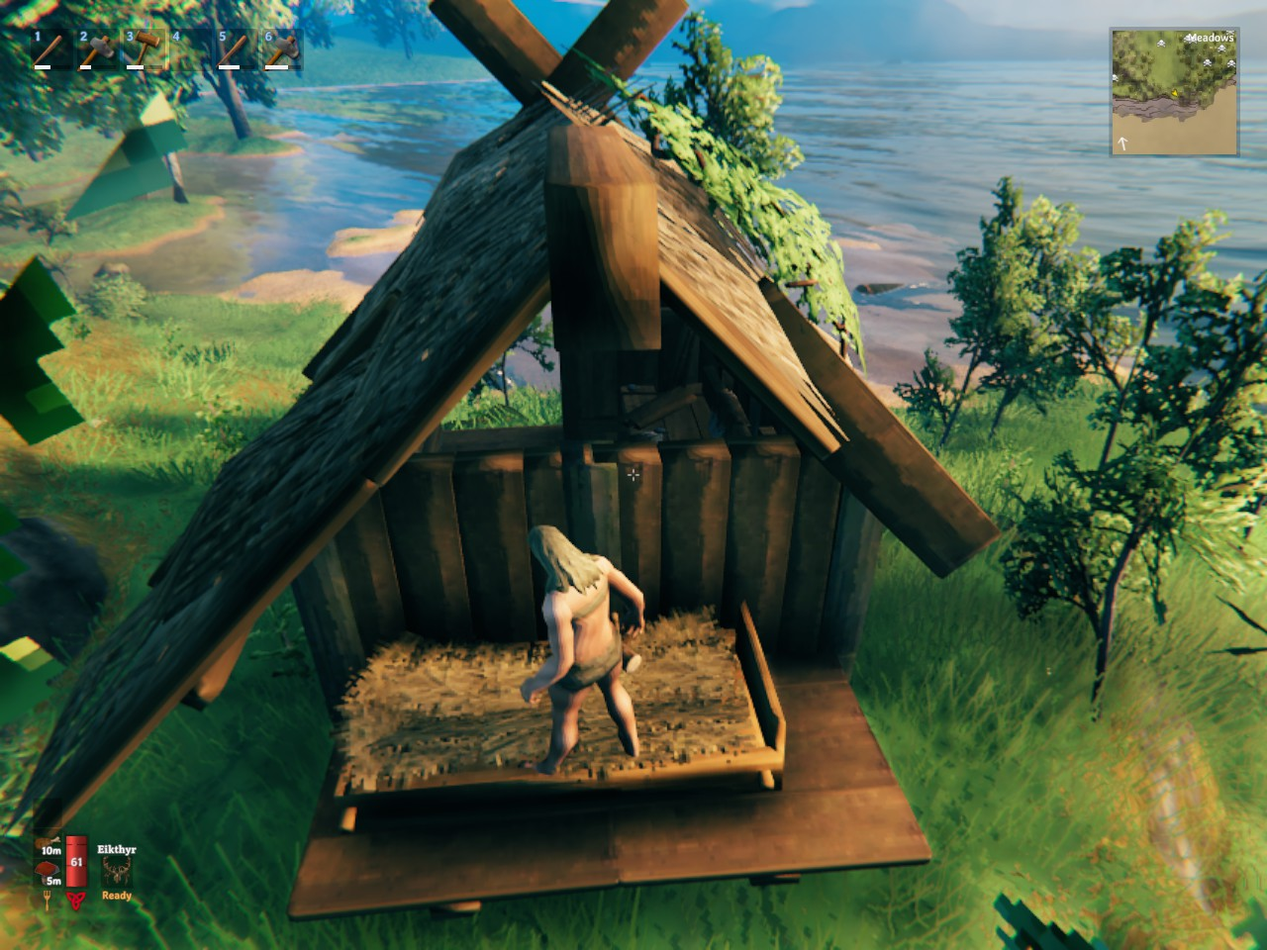Bed: (334, 604, 786, 803)
Food Indicator: (36, 797, 63, 891)
Health Bar: (63, 820, 90, 891)
Hotbar: (25, 21, 398, 78)
House: (31, 2, 1005, 918)
